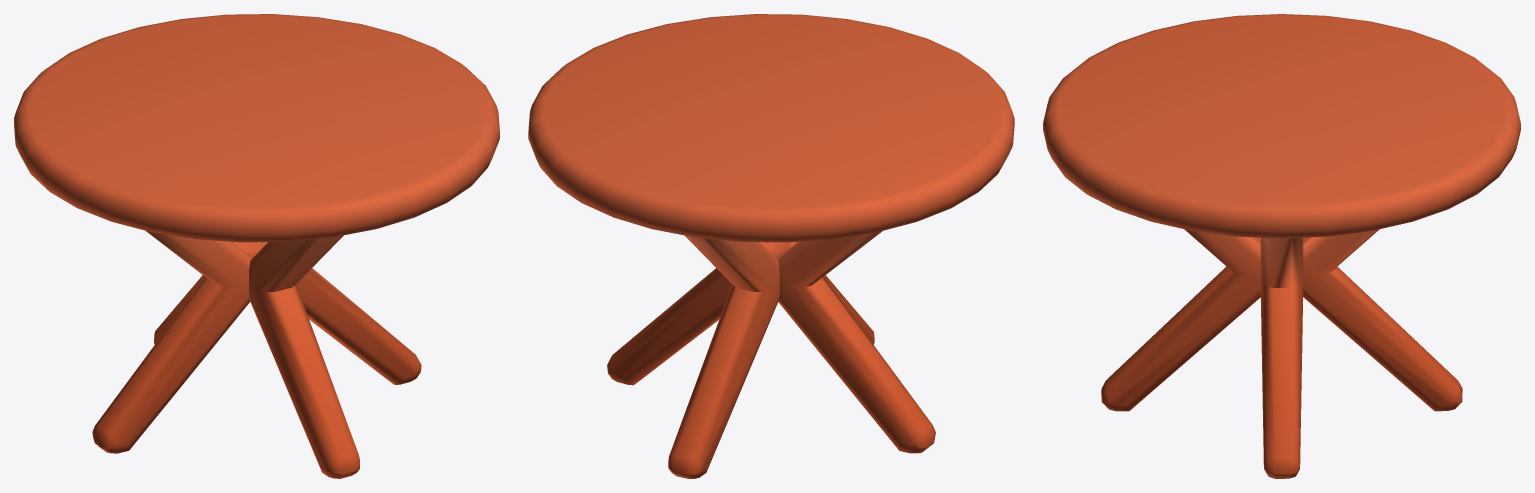
File: Kitchen_Table_01.glb
3 views of the same model, side by side, from view 1: azimuth 30°, elevation 25°; view 2: azimuth 150°, elevation 25°; view 3: azimuth 270°, elevation 25° (orthographic).
Visible parts, largest first — view 1: Kitchen_Table_01; view 2: Kitchen_Table_01; view 3: Kitchen_Table_01.
Boxes of the visible parts, x1=… form: Kitchen_Table_01: x1=14, y1=14, x2=499, y2=478; Kitchen_Table_01: x1=528, y1=14, x2=1014, y2=478; Kitchen_Table_01: x1=1043, y1=14, x2=1520, y2=478.
Bounding box in the file's own units: 1.06 × 0.726 × 1.06.
Materials: 1 (1 with a texture image).
